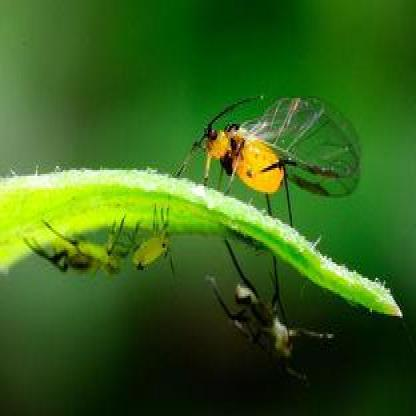aphid: (184, 79, 362, 238), (212, 232, 332, 379), (41, 221, 126, 281), (132, 207, 185, 278)
